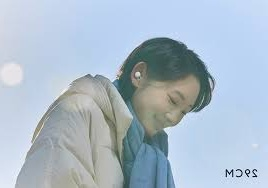earphone: (129, 62, 148, 89)
